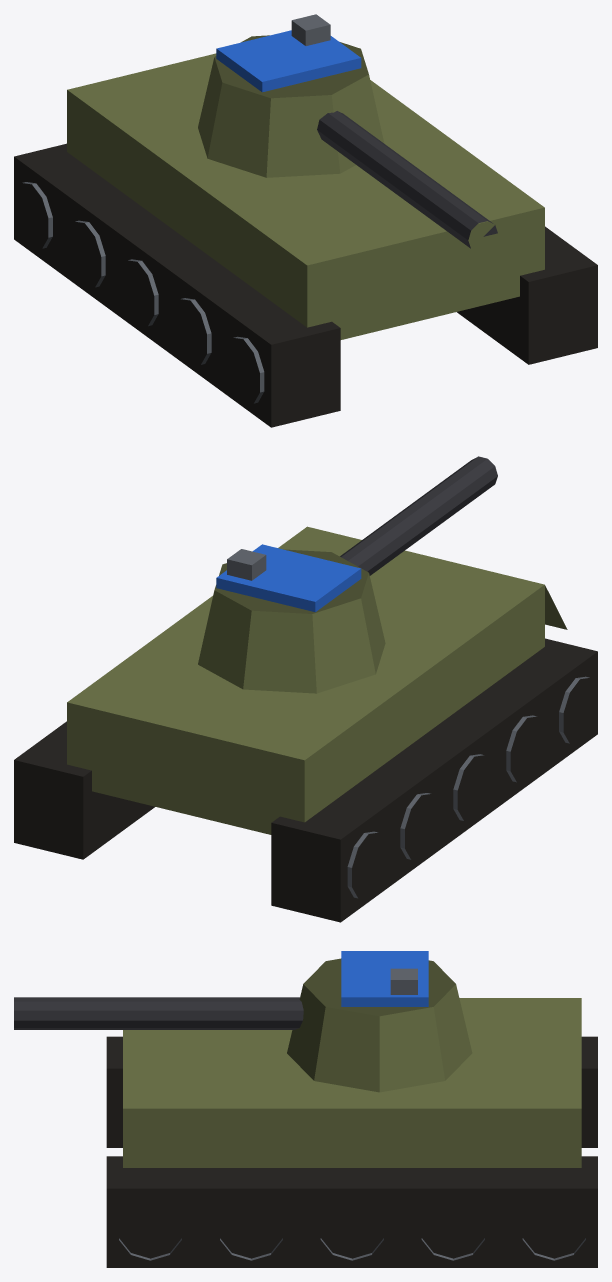
The model's file is tank_ww2.glb.
The picture shows the model from 3 angles, top to bottom: view 1: azimuth 30°, elevation 25°; view 2: azimuth 150°, elevation 25°; view 3: azimuth 270°, elevation 25°; orthographic projection. The views are drawn at different scales.
Visible parts, largest first — view 1: tank_ww2; view 2: tank_ww2; view 3: tank_ww2.
Boxes of the visible parts, left/top/right/bottom form: tank_ww2: left=14, top=14, right=597, bottom=427; tank_ww2: left=14, top=456, right=597, bottom=922; tank_ww2: left=14, top=951, right=597, bottom=1267.
Bounding box in the file's own units: 0.68 × 0.47 × 1.07.
